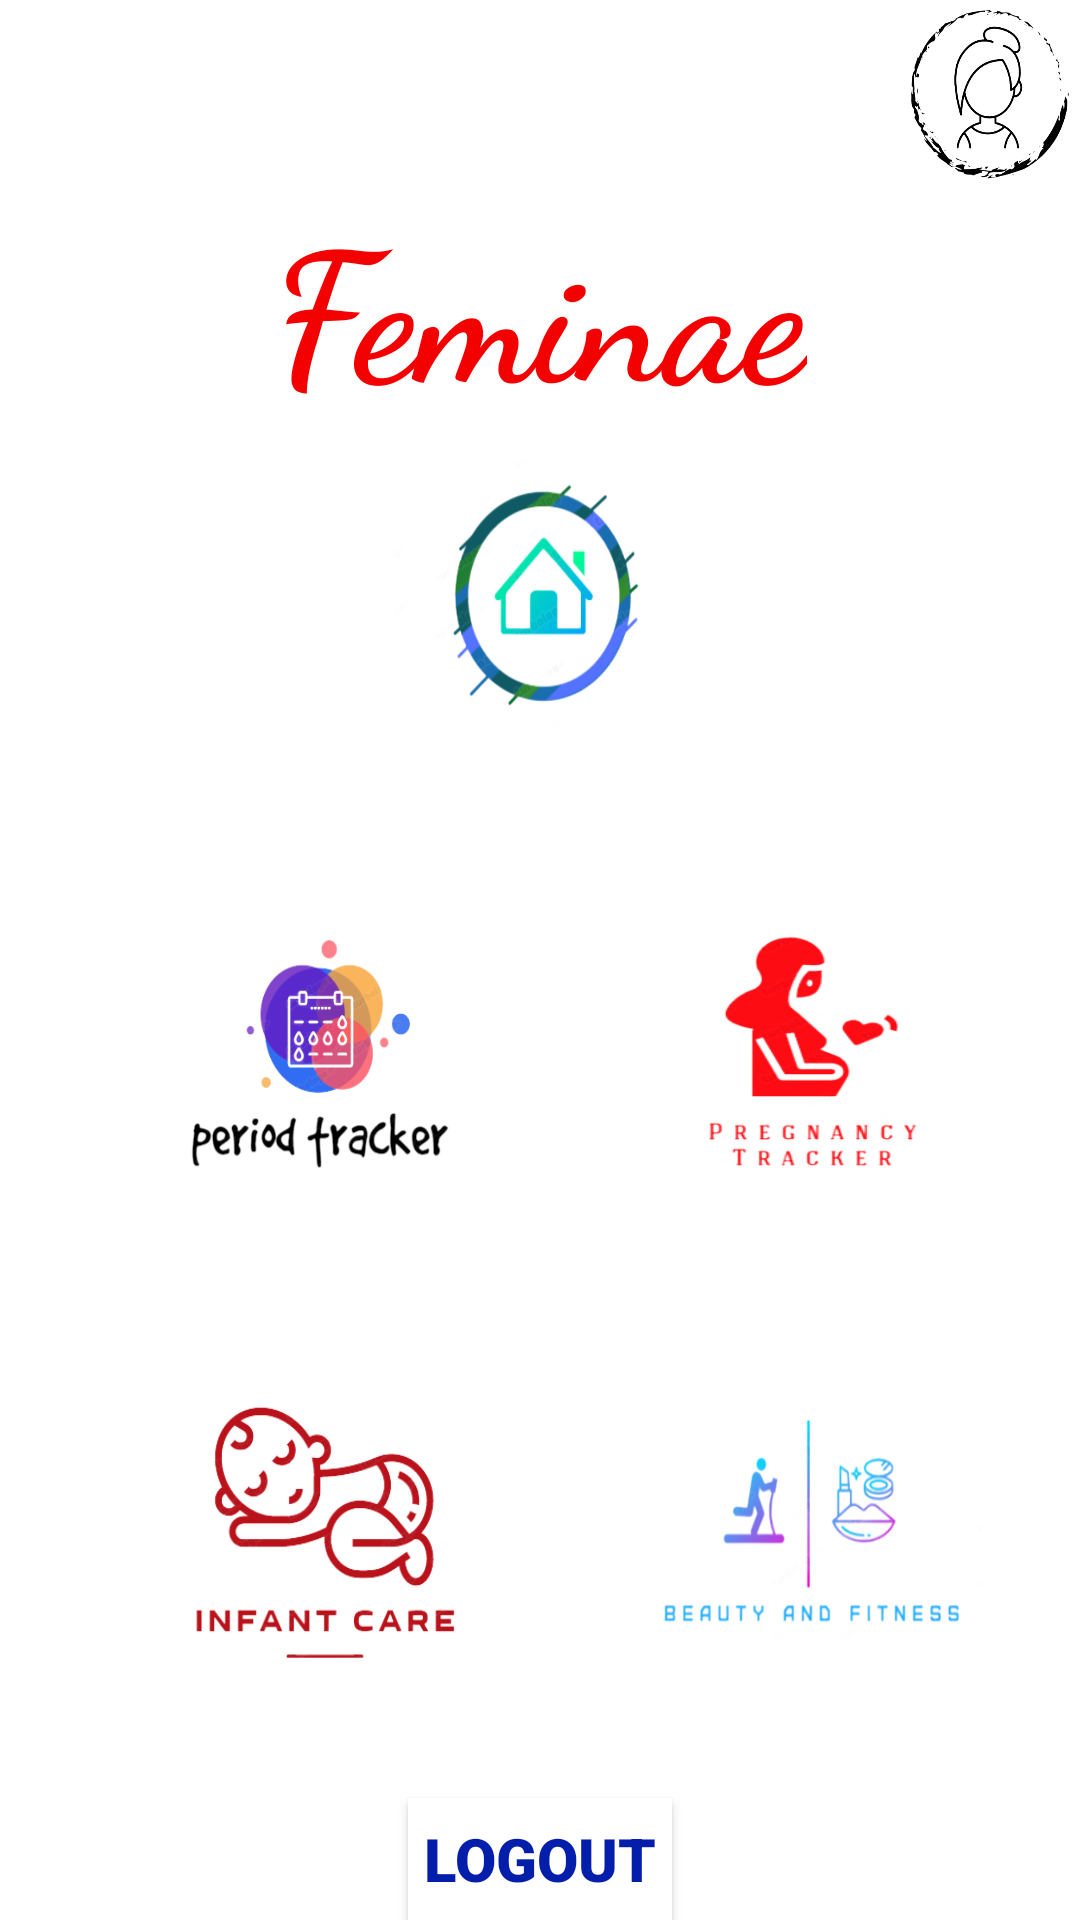

Icons on this 1080x1920 Android screen, each with the point to tap as (x,y):
home: (545,595)
profile: (990,94)
